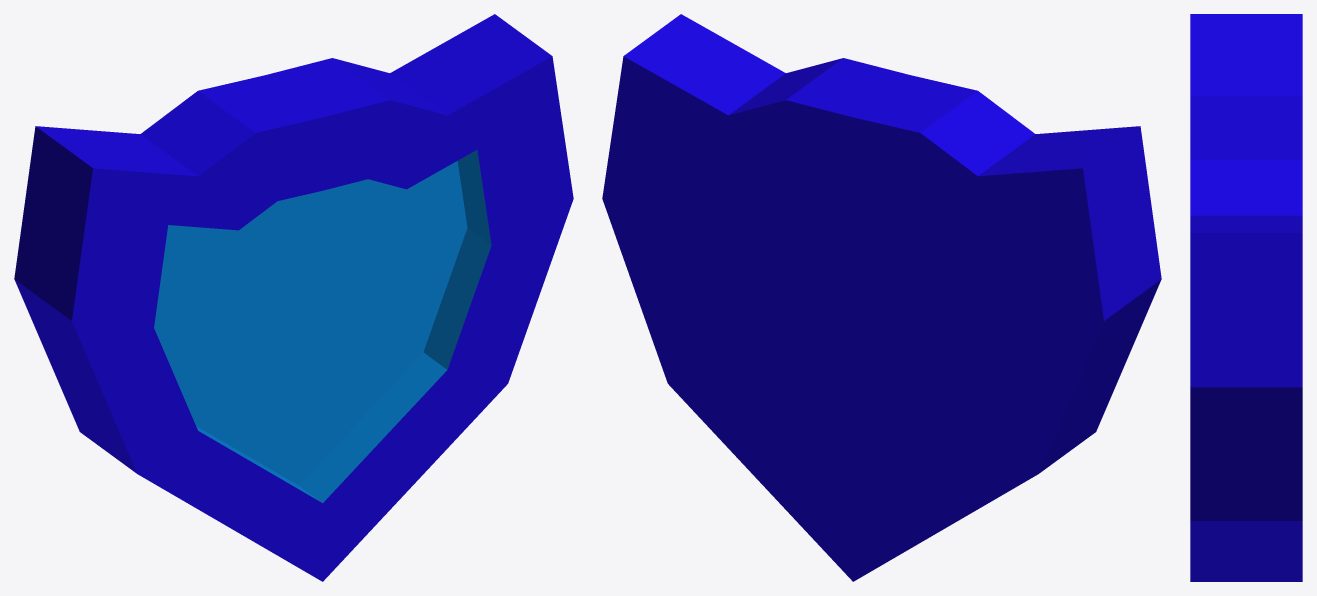
The model's file is Shield.fbx.
3 renders of one model, left to right at view 1: azimuth 30°, elevation 25°; view 2: azimuth 150°, elevation 25°; view 3: azimuth 270°, elevation 25°, orthographic. The views are drawn at different scales.
Visible parts, largest first — view 1: Shield; view 2: Shield; view 3: Shield.
Boxes of the visible parts, box(x1,y1,x2,y2) form: Shield: box(14, 14, 573, 581); Shield: box(602, 14, 1161, 581); Shield: box(1190, 14, 1302, 581).
Size of the model in its own units: 1.01 by 0.8993 by 0.2.
